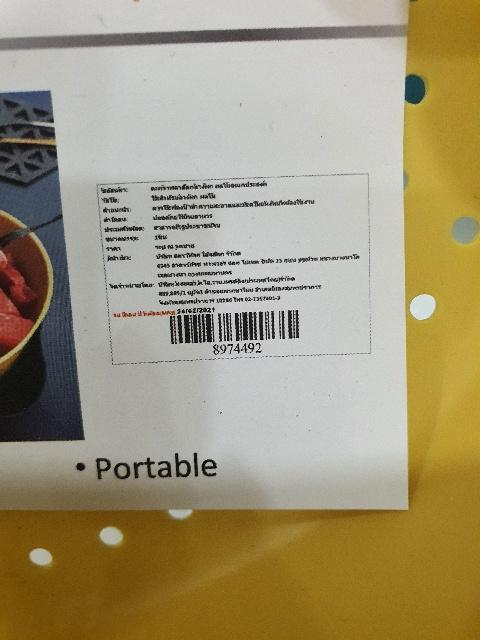Barcode: (164, 306, 306, 358)
